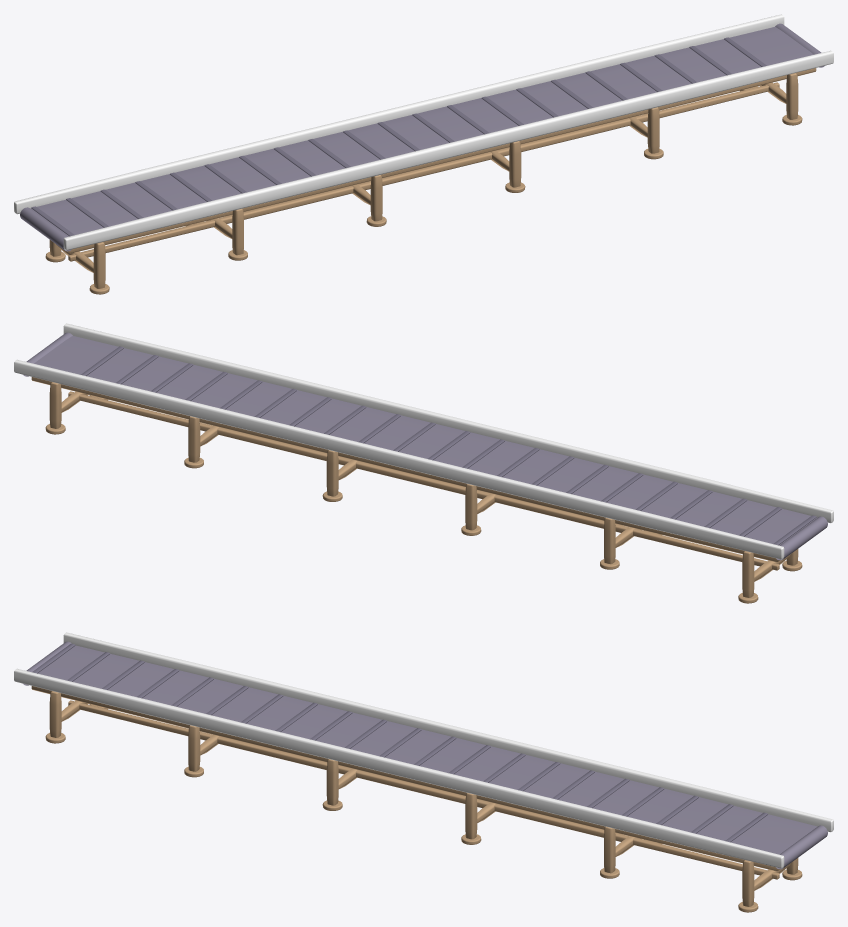
File: CakeBelt.glb
The picture shows the model from 3 angles, top to bottom: view 1: azimuth 30°, elevation 25°; view 2: azimuth 150°, elevation 25°; view 3: azimuth 330°, elevation 25°; orthographic projection.
Parts seen in each view (by area): view 1: Belt, Stripe, Frame, Cleats; view 2: Belt, Stripe, Frame, Cleats; view 3: Belt, Stripe, Frame, Cleats.
Part boxes in pixels (x1,y1,x2,y2): Belt: [20, 23, 824, 251]; Stripe: [14, 14, 833, 250]; Frame: [45, 68, 816, 294]; Cleats: [31, 37, 766, 236]; Belt: [23, 332, 827, 560]; Stripe: [14, 323, 833, 559]; Frame: [31, 377, 802, 603]; Cleats: [81, 346, 816, 545]; Belt: [23, 641, 827, 869]; Stripe: [14, 632, 833, 868]; Frame: [31, 686, 802, 912]; Cleats: [32, 643, 767, 842].
Size of the model in its own units: 44.4 by 3.56 by 5.4.
